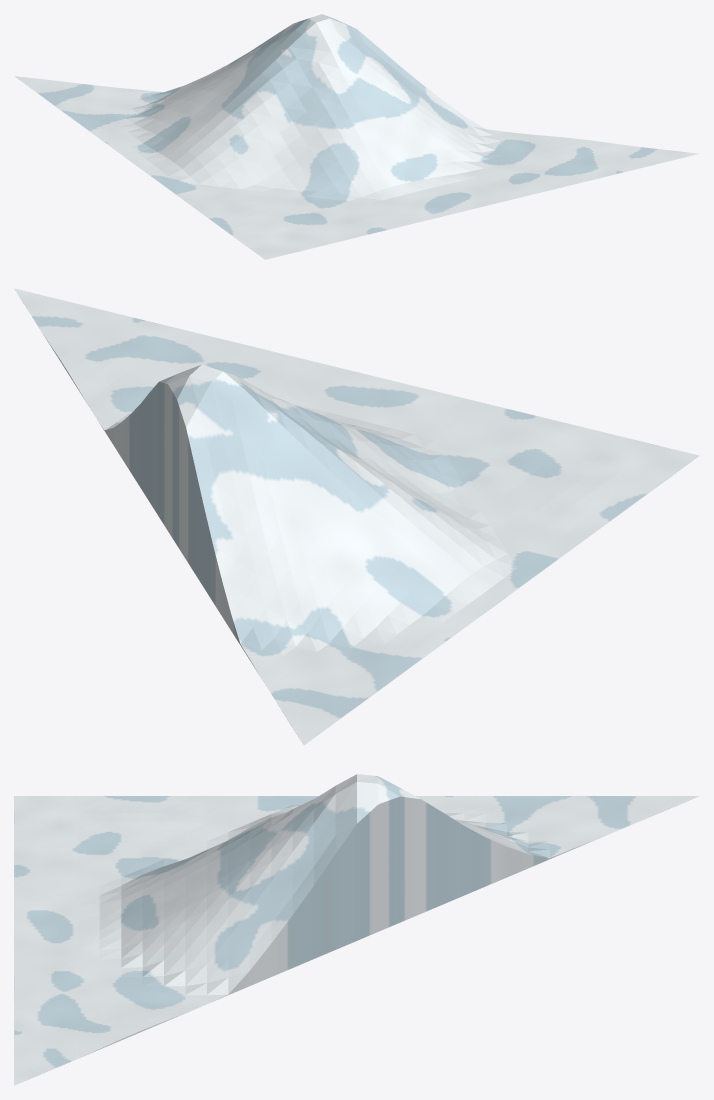
File: Snow_Mountains_03_NW.obj
3 renders of one model, top to bottom at view 1: azimuth 30°, elevation 25°; view 2: azimuth 150°, elevation 25°; view 3: azimuth 270°, elevation 25°, orthographic. The views are drawn at different scales.
Size of the model in its own units: 10 by 2.27 by 10.
1 material, 1 textured.
